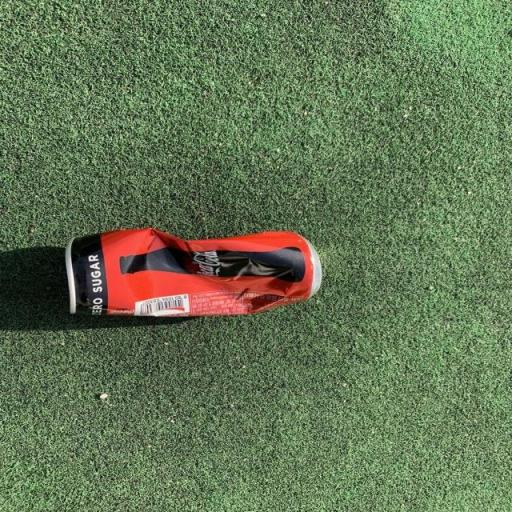metal: (20, 213, 366, 343)
